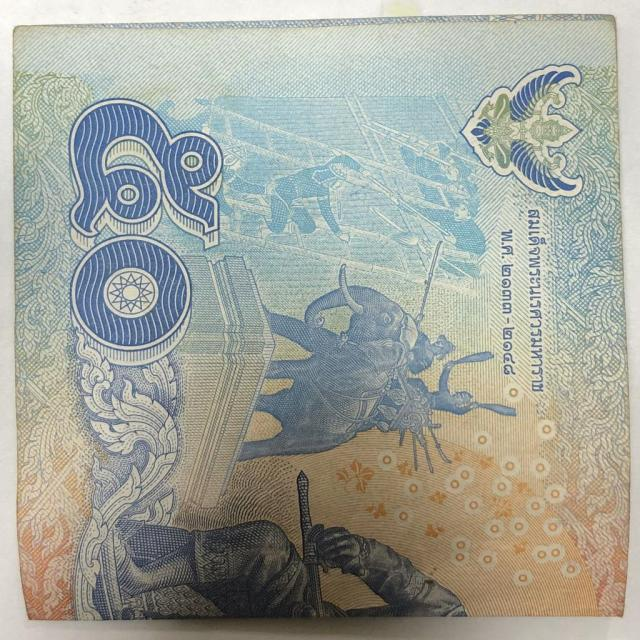THAI50: (13, 13, 629, 619)
